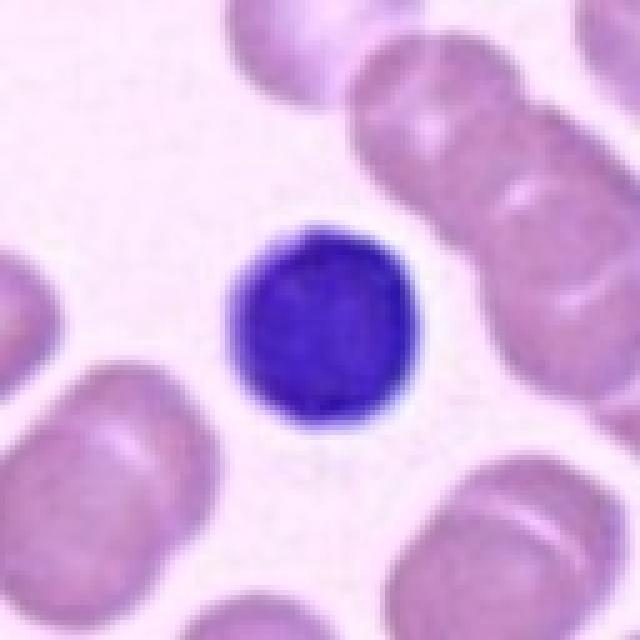lympho: (226, 211, 425, 441)
